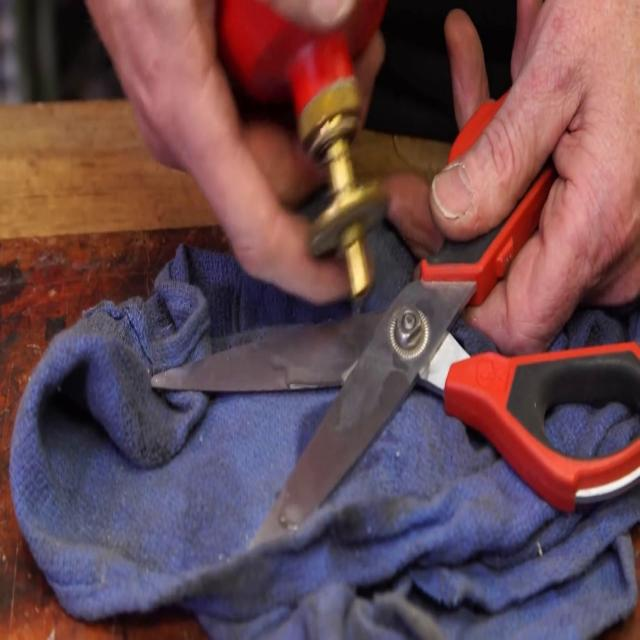scissor: (150, 88, 640, 555)
